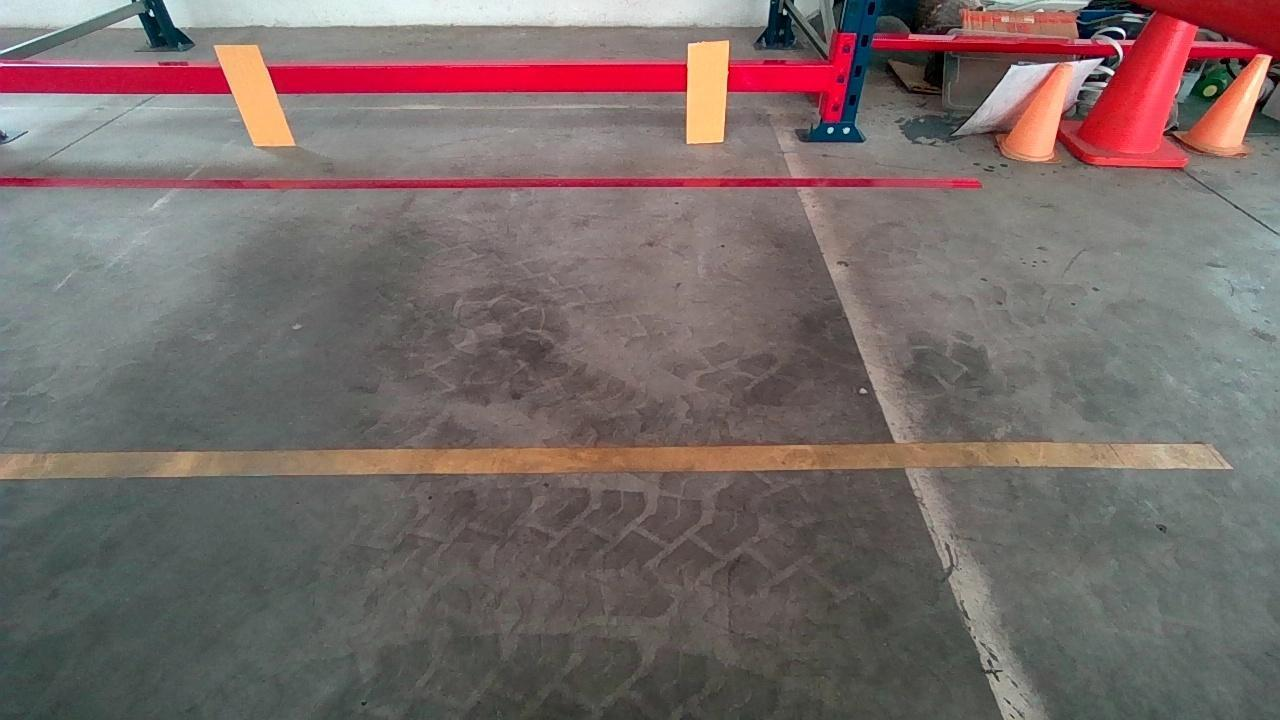h_rack: (0, 63, 826, 98)
orange_strip: (216, 44, 293, 145), (687, 42, 727, 141)
red_line: (0, 174, 979, 189)
yellow_line: (0, 443, 1233, 481)
